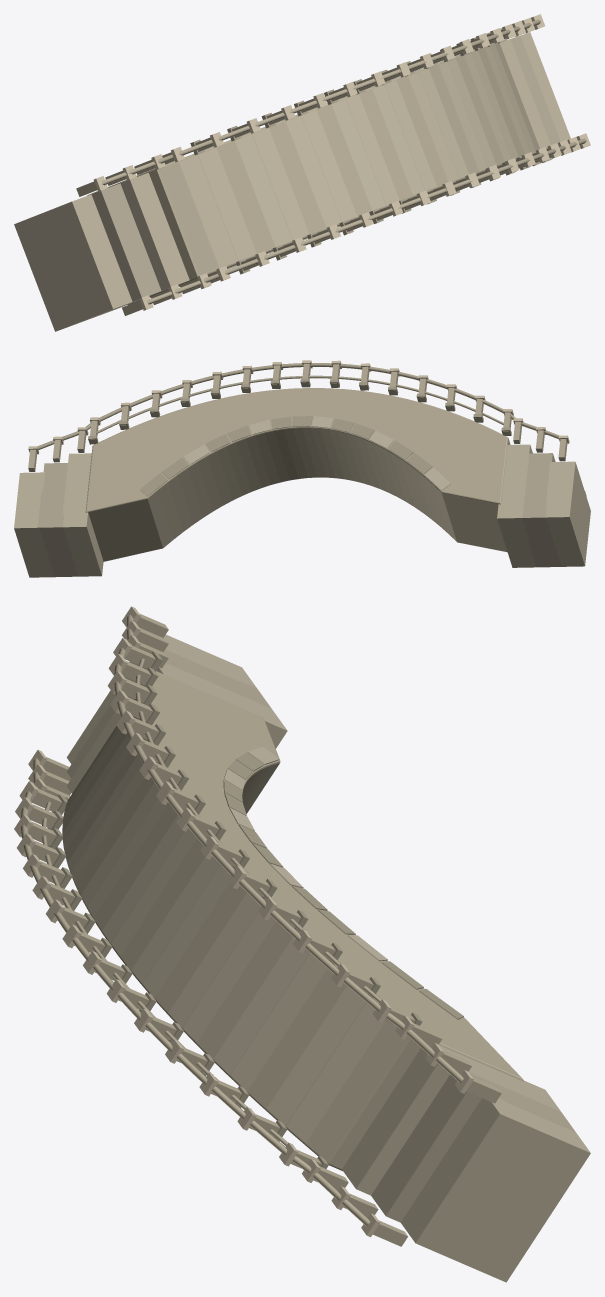
File: bridge.glb
3 views of the same model, one above another, from view 1: azimuth 30°, elevation 25°; view 2: azimuth 150°, elevation 25°; view 3: azimuth 270°, elevation 25° (orthographic). The views are drawn at different scales.
Visible parts, largest first — view 1: bridge; view 2: bridge; view 3: bridge.
Part boxes in pixels (left/top/right/bottom): bridge: left=14, top=14, right=590, bottom=331; bridge: left=14, top=360, right=590, bottom=577; bridge: left=14, top=606, right=590, bottom=1282.
Size of the model in its own units: 0.5981 by 0.2291 by 0.3461.
